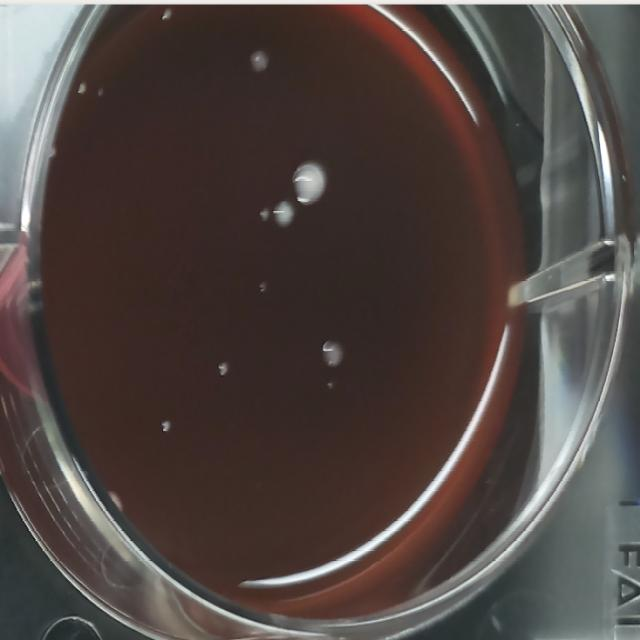Staphylococcus: (288, 159, 327, 207), (271, 197, 297, 233)
